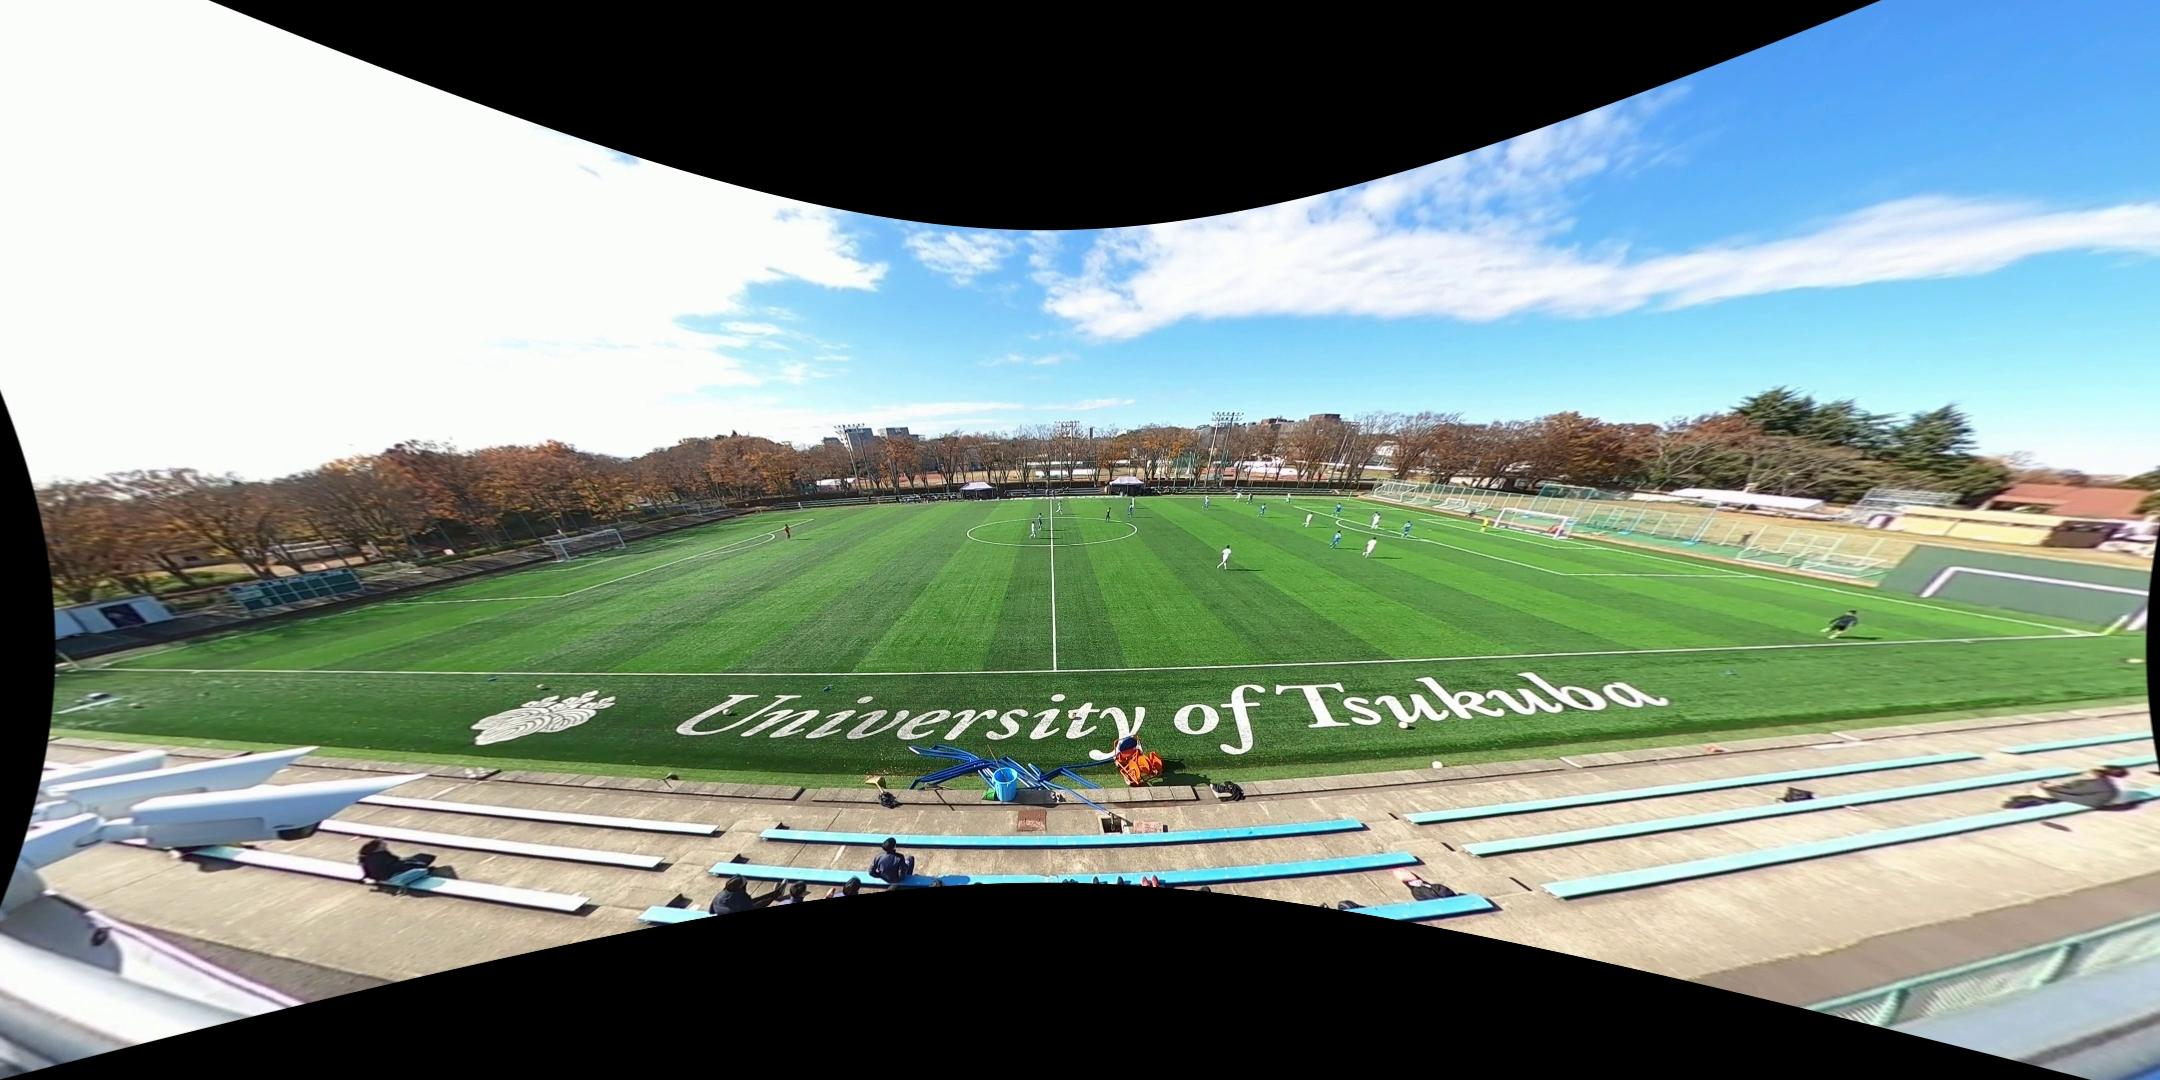person: (1821, 610, 1861, 638), (1216, 544, 1232, 570), (1362, 536, 1378, 558), (1330, 530, 1343, 548), (1401, 520, 1413, 538), (1479, 514, 1490, 533), (1302, 512, 1314, 528), (1371, 513, 1382, 529), (1332, 502, 1343, 517), (1371, 511, 1381, 527), (1257, 502, 1267, 517), (1029, 521, 1037, 539), (1105, 505, 1113, 522), (785, 523, 793, 540), (1202, 497, 1211, 511), (1036, 512, 1043, 530), (1127, 503, 1134, 518), (1056, 500, 1063, 515), (1130, 495, 1137, 510), (1284, 492, 1292, 505), (1204, 494, 1211, 508), (1246, 492, 1253, 505), (1234, 491, 1242, 502), (1247, 492, 1254, 504)
sports ball: (1430, 758, 1445, 772), (1396, 718, 1411, 731), (1066, 708, 1077, 720), (127, 700, 140, 710), (535, 683, 547, 692), (722, 707, 732, 717)
